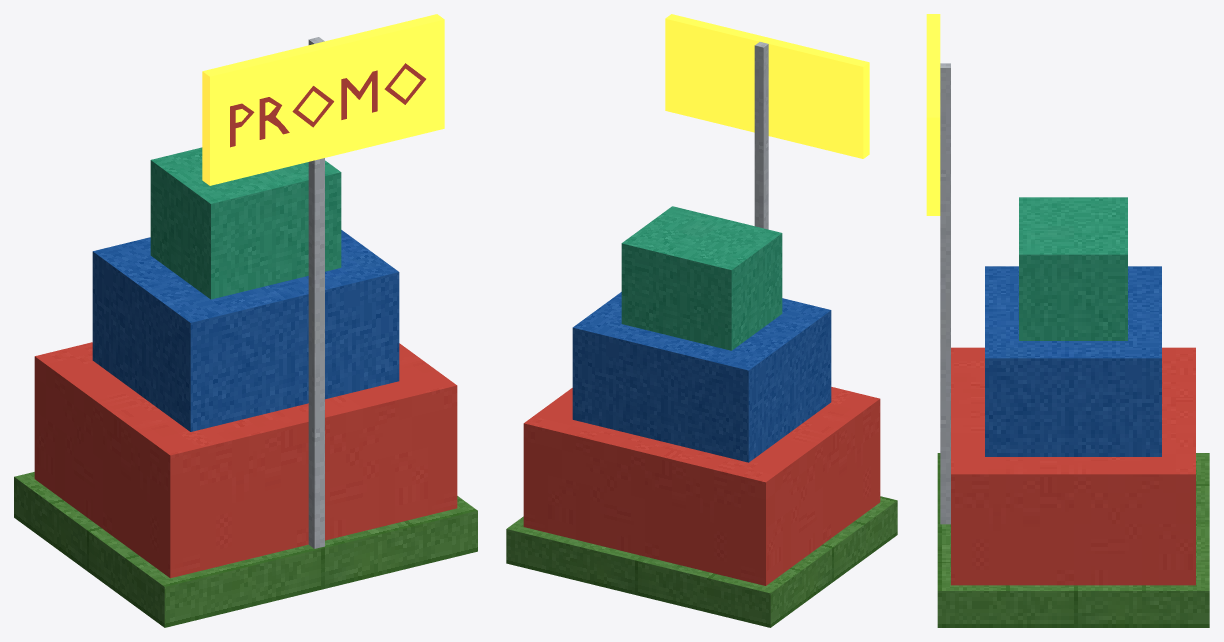
3 views of the same model, side by side, from view 1: azimuth 30°, elevation 25°; view 2: azimuth 150°, elevation 25°; view 3: azimuth 270°, elevation 25° (orthographic). The views are drawn at different scales.
Parts seen in each view (by area): view 1: Decor_promo_end_cap; view 2: Decor_promo_end_cap; view 3: Decor_promo_end_cap.
Boxes of the visible parts, x1,y1,x2,y2 form: Decor_promo_end_cap: [14, 14, 477, 627]; Decor_promo_end_cap: [506, 14, 897, 627]; Decor_promo_end_cap: [926, 14, 1209, 627].
Size of the model in its own units: 1.2 by 2 by 1.04.
6 materials, 5 textured.
